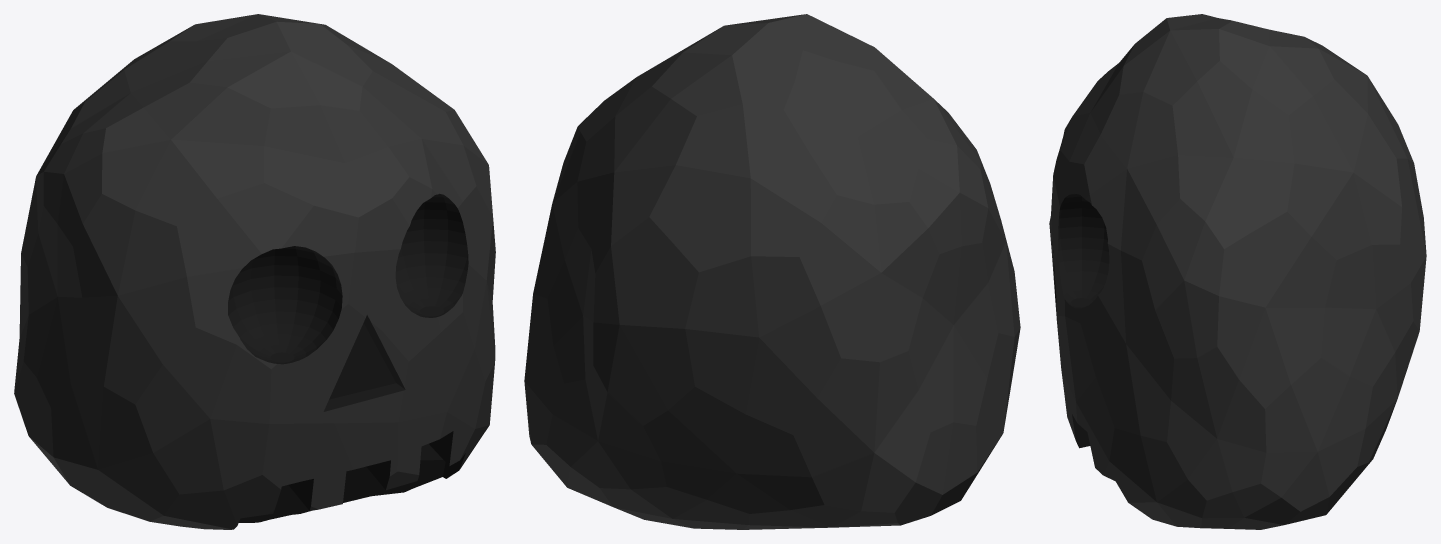
File: weird_rock1.fbx
The picture shows the model from 3 angles, left to right: view 1: azimuth 30°, elevation 25°; view 2: azimuth 150°, elevation 25°; view 3: azimuth 270°, elevation 25°; orthographic projection. The views are drawn at different scales.
Parts seen in each view (by area): view 1: Icosphere; view 2: Icosphere; view 3: Icosphere.
Boxes of the visible parts, x1,y1,x2,y2 form: Icosphere: [14, 14, 495, 529]; Icosphere: [524, 14, 1020, 529]; Icosphere: [1049, 14, 1426, 529].
Bounding box in the file's own units: 517 × 552 × 428.
